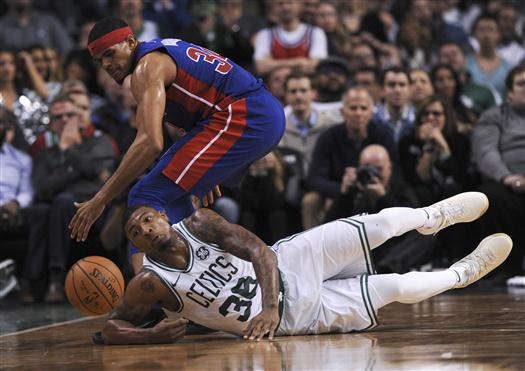10+: (2, 2, 523, 312)
down: (95, 191, 510, 346)
